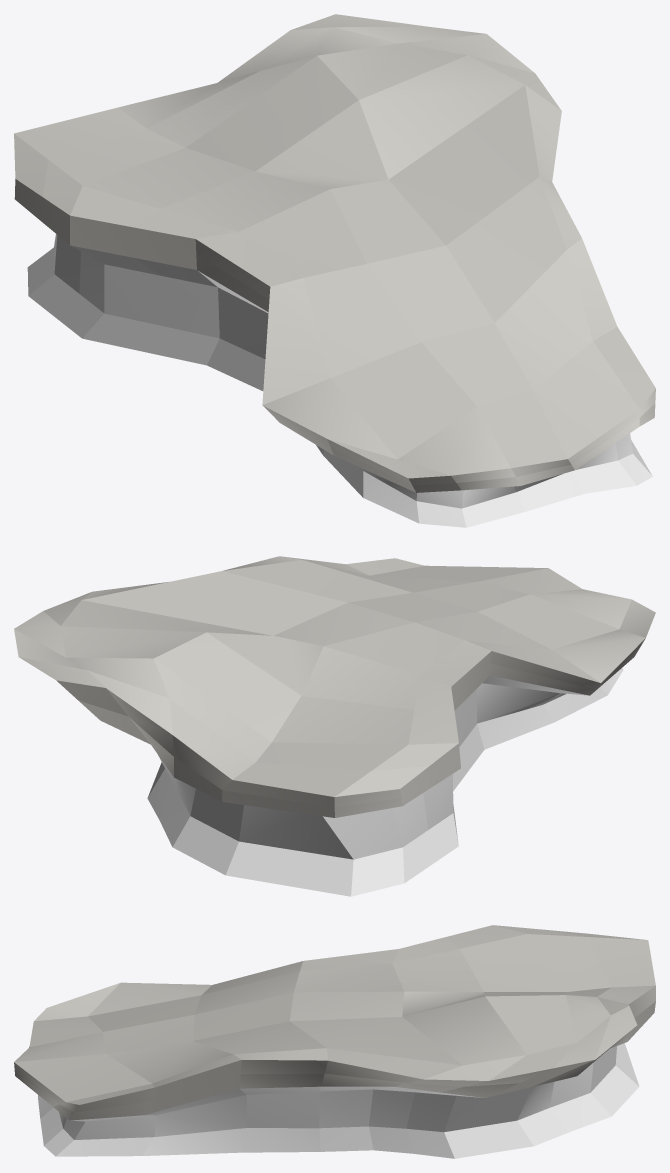
File: christmasIslandBig.dae
3 views of the same model, one above another, from view 1: azimuth 30°, elevation 25°; view 2: azimuth 150°, elevation 25°; view 3: azimuth 270°, elevation 25° (orthographic). The views are drawn at different scales.
Visible parts, largest first — view 1: christmasIslandBig; view 2: christmasIslandBig; view 3: christmasIslandBig.
Boxes of the visible parts, left/top/right/bottom form: christmasIslandBig: left=14, top=14, right=655, bottom=527; christmasIslandBig: left=14, top=556, right=655, bottom=896; christmasIslandBig: left=14, top=925, right=655, bottom=1158.
Size of the model in its own units: 12.3 by 18.38 by 4.88.
Materials: 2 (1 with a texture image).
